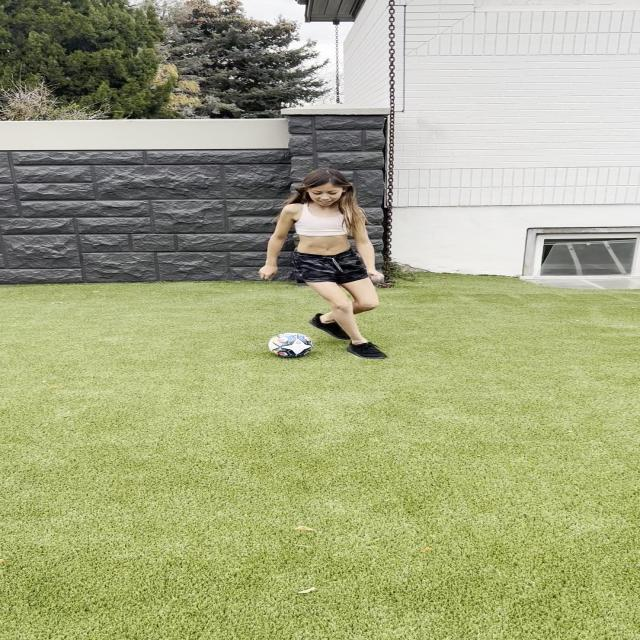Soccer Ball: (268, 332, 314, 358)
